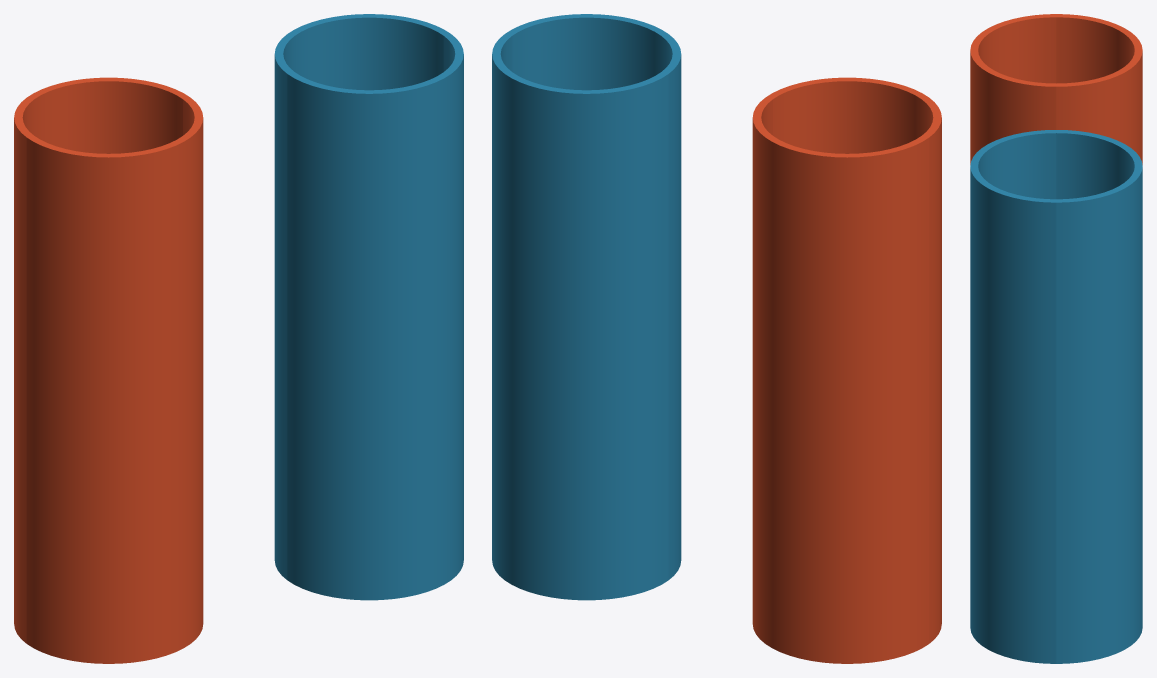
File: desiccant_dryer_pressure.glb
The picture shows the model from 3 angles, left to right: view 1: azimuth 30°, elevation 25°; view 2: azimuth 150°, elevation 25°; view 3: azimuth 270°, elevation 25°; orthographic projection. The views are drawn at different scales.
Visible parts, largest first — view 1: pz__front, pz__back; view 2: pz__back, pz__front; view 3: pz__back, pz__front.
Boxes of the visible parts, x1=… form: pz__front: x1=26, y1=34, x2=463, y2=663; pz__back: x1=14, y1=14, x2=450, y2=643; pz__back: x1=492, y1=34, x2=929, y2=663; pz__front: x1=505, y1=14, x2=941, y2=643; pz__back: x1=1056, y1=14, x2=1142, y2=663; pz__front: x1=970, y1=14, x2=1056, y2=663.
Bounding box in the file's own units: 1.14 × 1.3 × 0.44.
